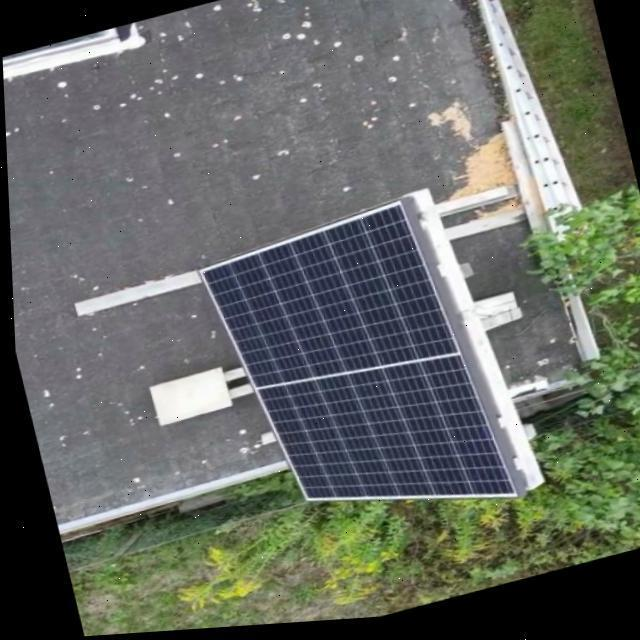Normal Solar Panel: (193, 192, 512, 562)
